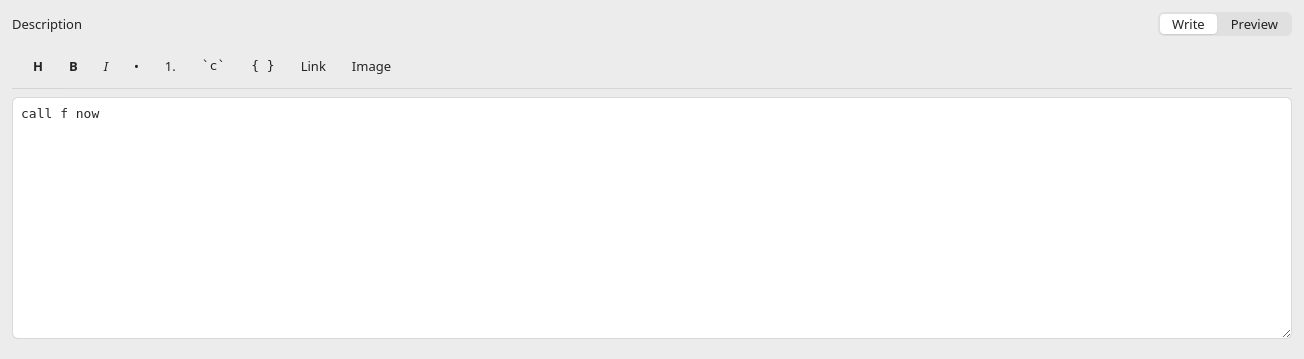
Test: DescriptionEditor toolbar (FR2) › Inline code applies its command to the selection
The width and height of the screenshot is (1304, 359).
Click the button named "Inline code". click: point(213, 66)
box: x1=193 y1=54 x2=234 y2=78
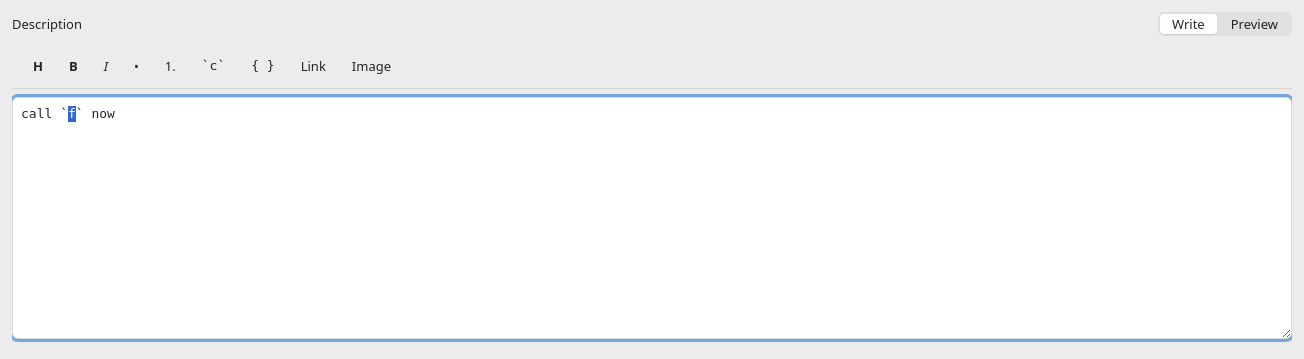
Now the text box labelled "Description" holds "call `f` now"
